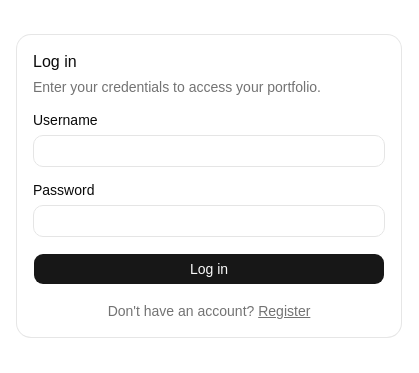
Test: LoginPage › shows error on invalid credentials
In the field labelled "Username": [209, 151] box [33, 135, 385, 167], type "wrong"
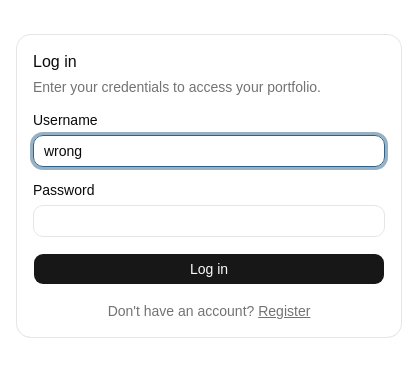
In the password field labelled "Password": [209, 221] box [33, 205, 385, 237], type "wrong"
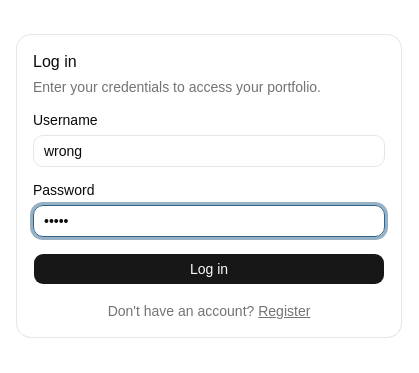
Click the button "Log in": [209, 269] box [33, 253, 385, 285]
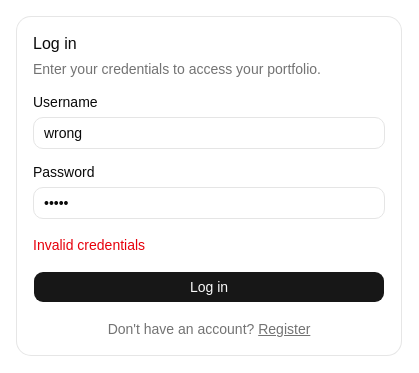
expect the text "Invalid credentials" is shown: met, box [33, 237, 145, 253]
